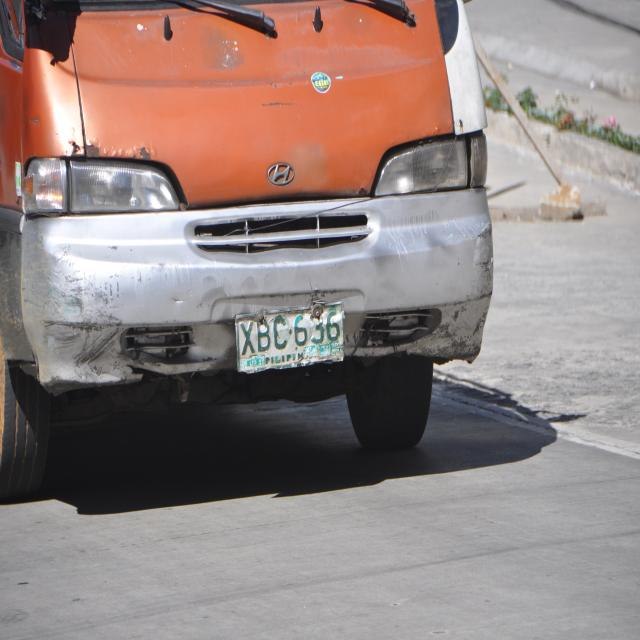LicensePlate: (214, 297, 362, 378)
